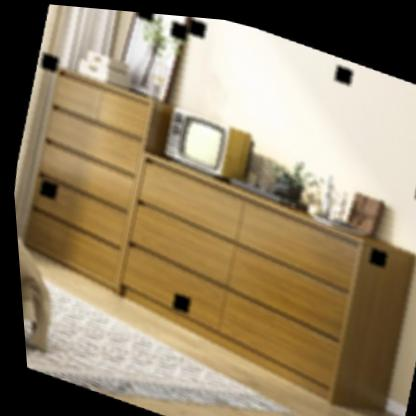Sideboard: (110, 150, 416, 415), (3, 56, 171, 303)
